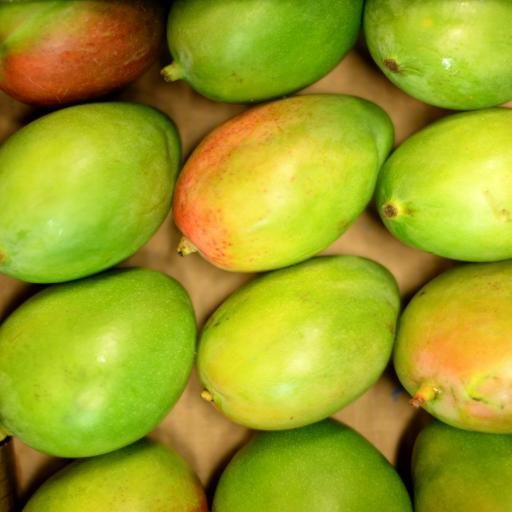mango: (174, 94, 393, 272), (0, 269, 195, 457), (197, 256, 399, 429), (0, 103, 180, 282), (376, 108, 511, 261), (394, 261, 511, 433)
